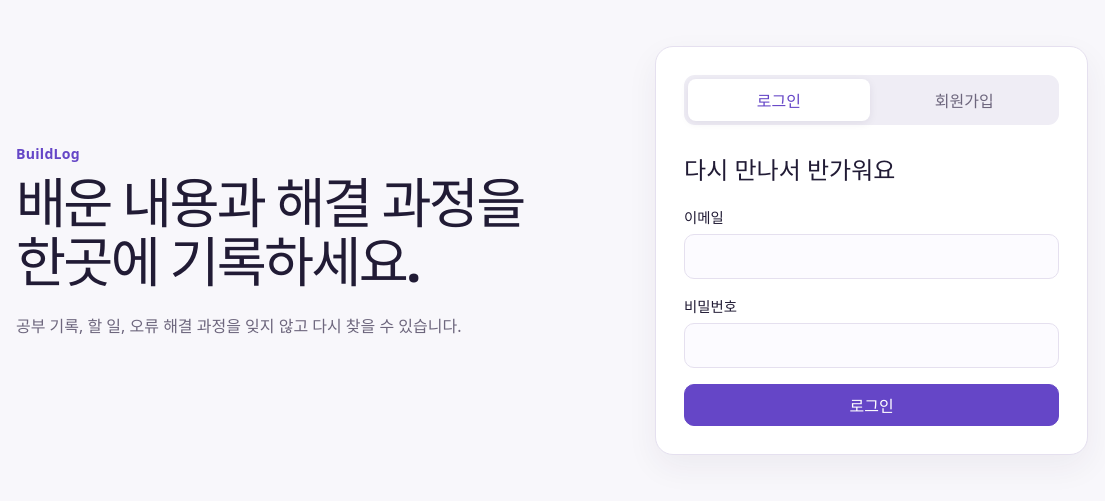
회원 화면 › 로그인 실패 시 입력값과 안내를 유지한다
Type "user@example.com" into the field labelled "이메일". click: [872, 256]
box: x1=684 y1=234 x2=1059 y2=278
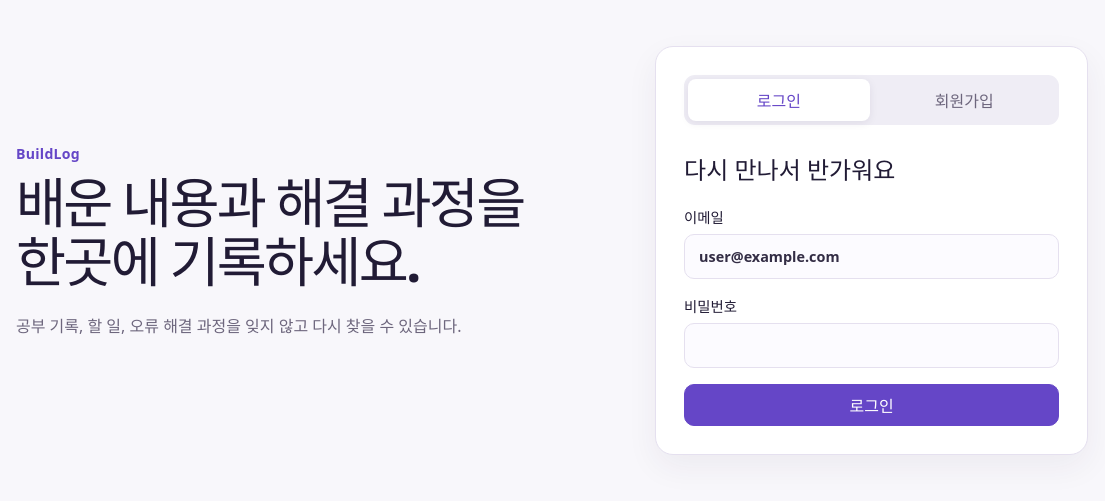
Type "wrong" into the password field labelled "비밀번호". click: [872, 345]
box: x1=684 y1=322 x2=1059 y2=368
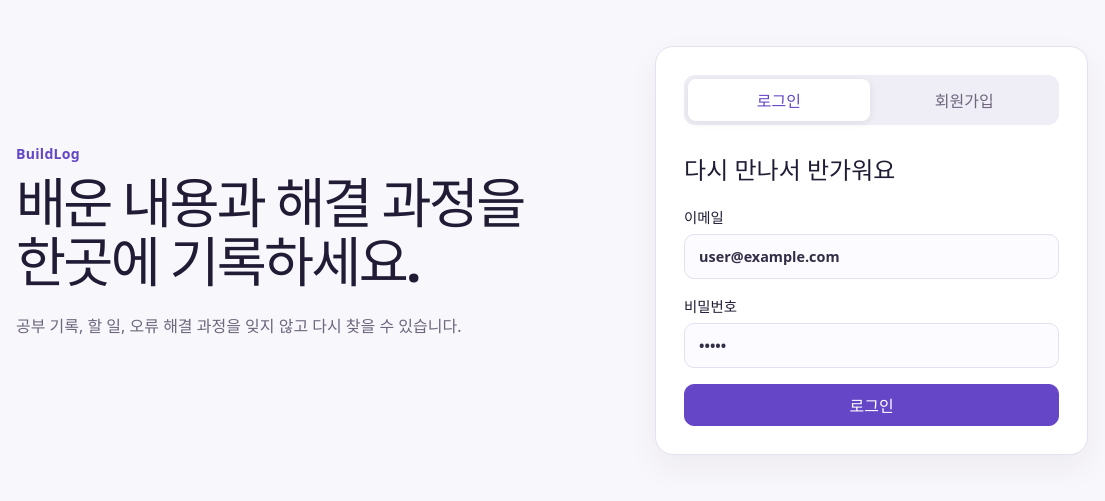
Submit the form labelled "비밀번호", box x1=684 y1=206 x2=1059 y2=426
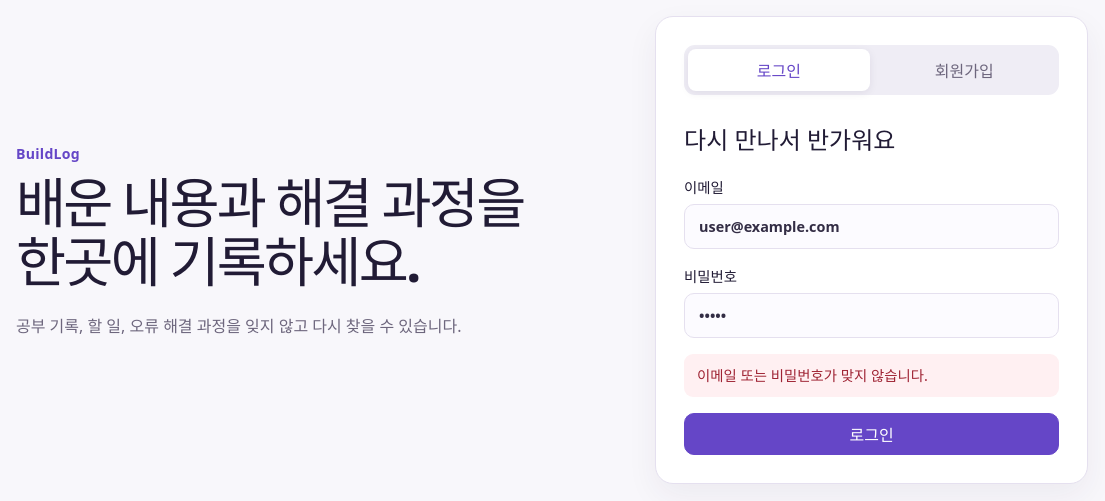
Now the text "이메일 또는 비밀번호가 맞지 않습니다." is shown, box x1=684 y1=354 x2=1059 y2=397
